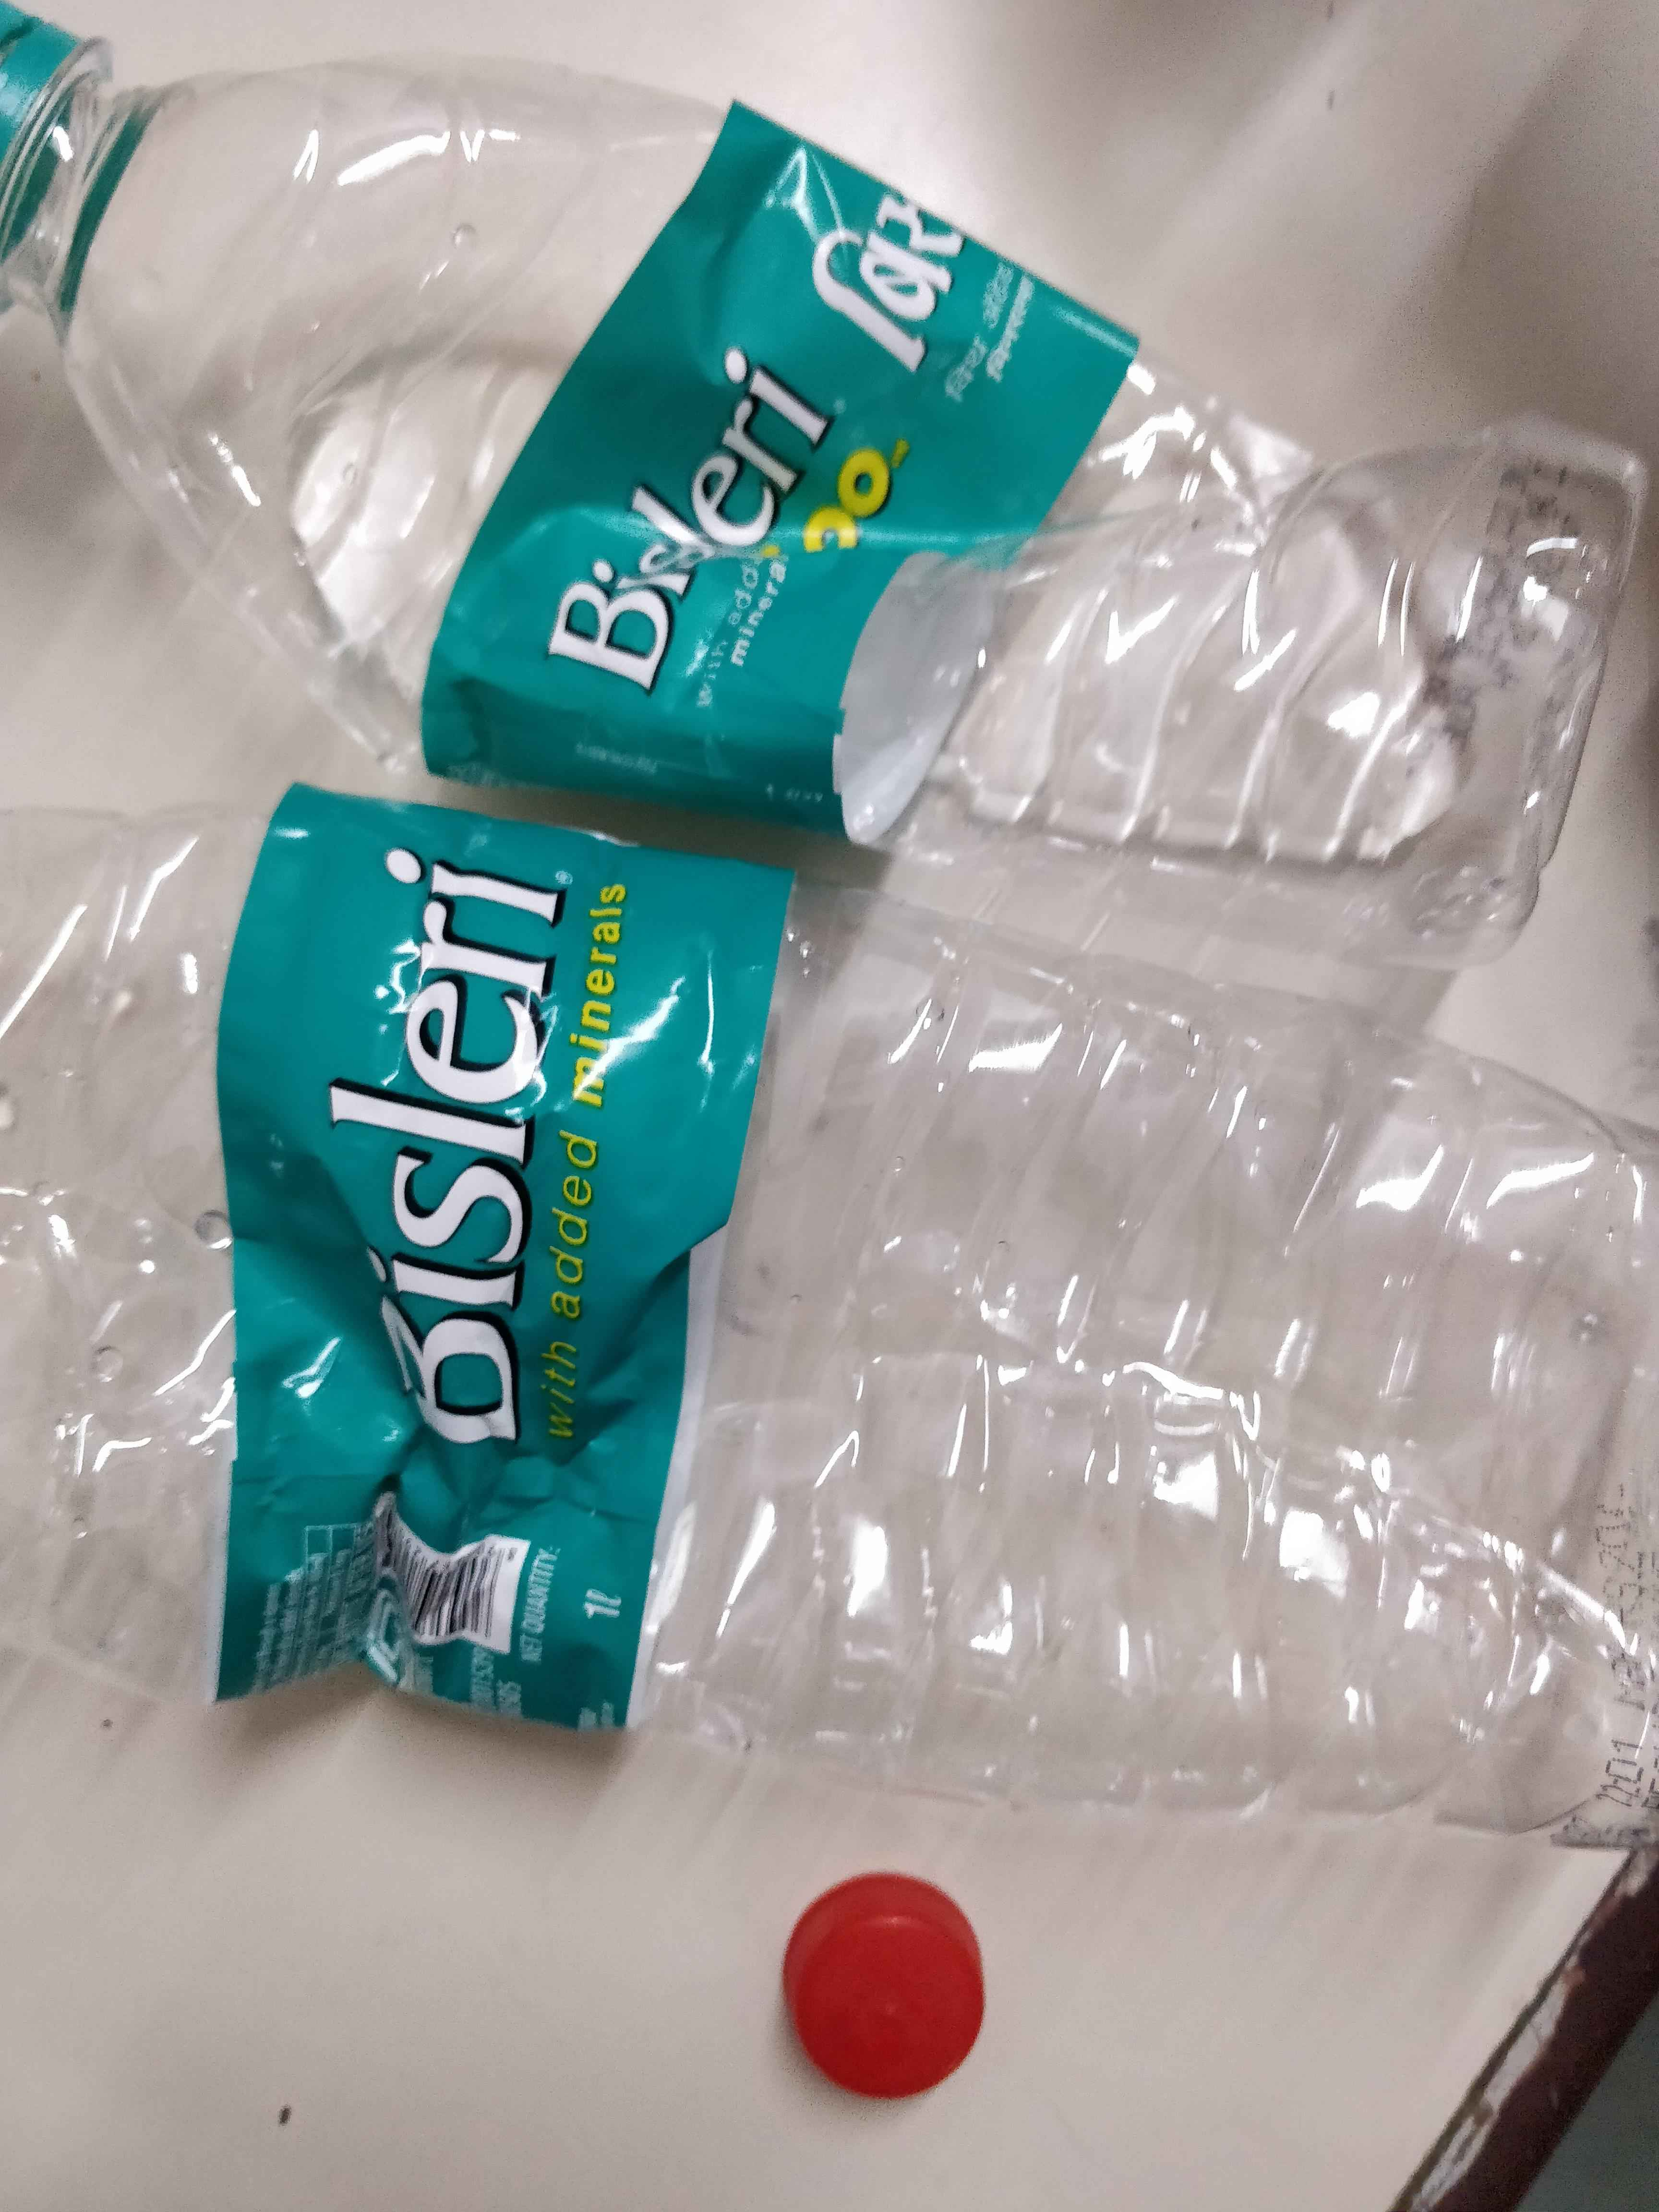Bisleri: (270, 803, 648, 1721), (476, 174, 1021, 733)
